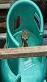cylinder: (1, 0, 47, 82)
